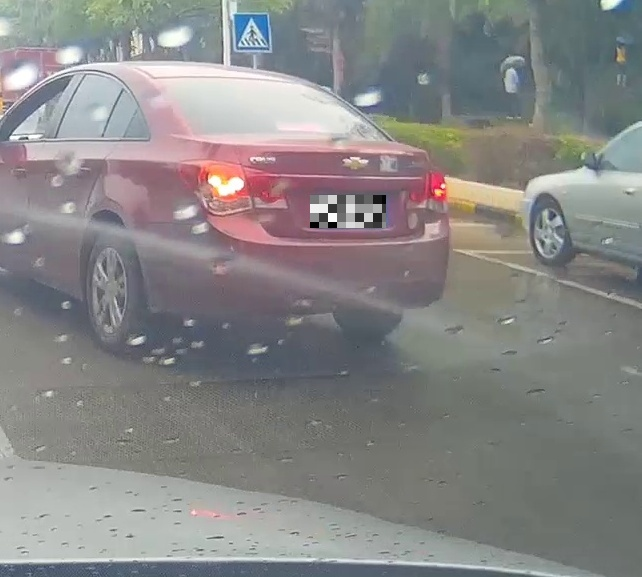L_light: (176, 158, 289, 217)
R_light: (405, 169, 451, 215)
T_light: (276, 120, 324, 133)
day-left: (143, 62, 452, 357)
plate_1: (310, 195, 386, 228)
